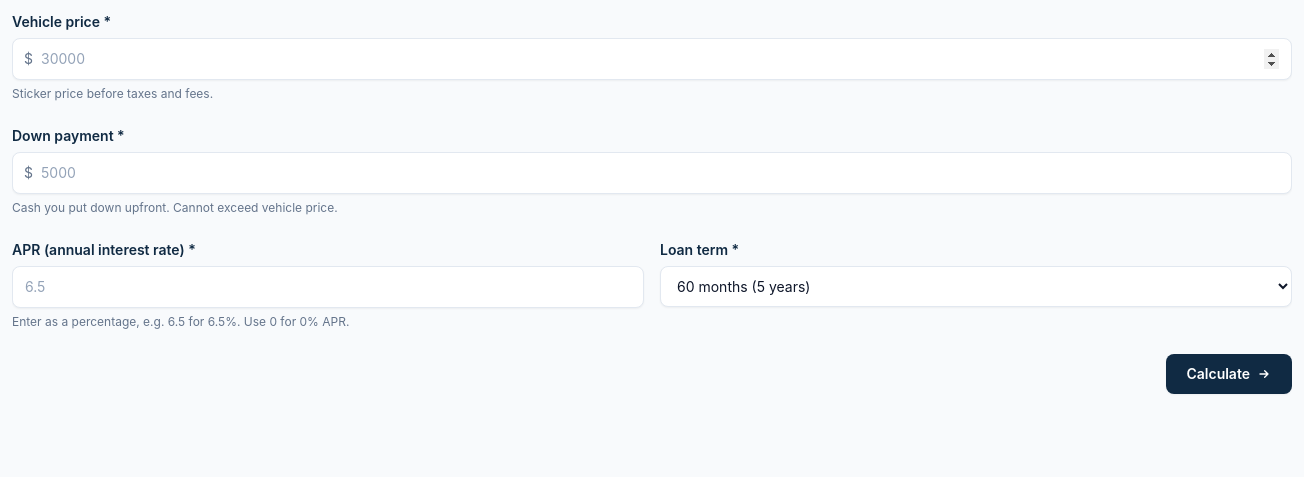
Test: FinanceCalc › shows validation errors when submitted empty
The image size is (1304, 477).
Click the button "Calculate": (1229, 374) 1166,354 -> 1292,394
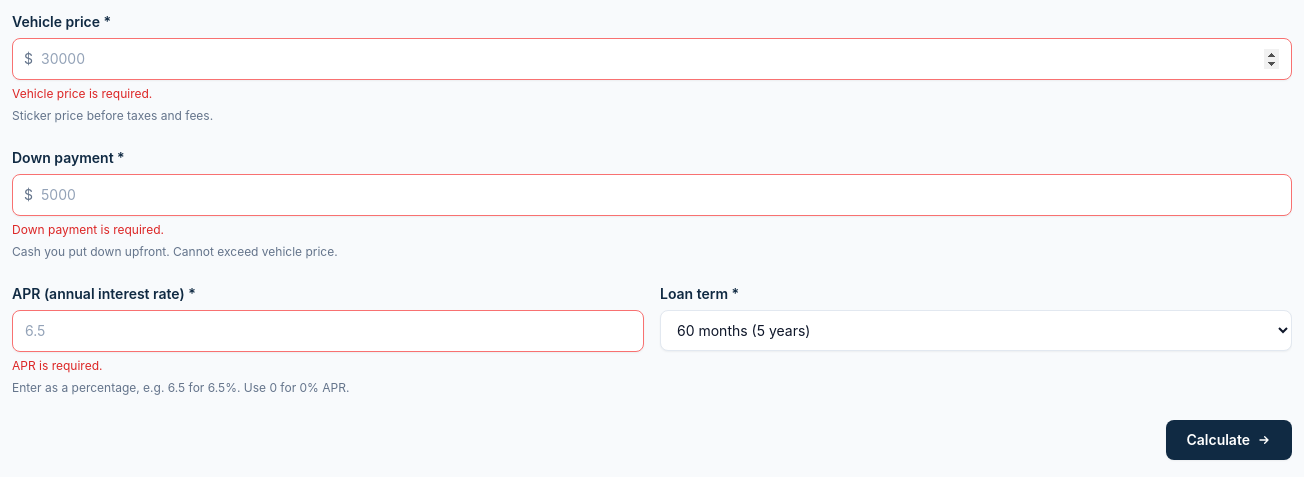
Check: the text "Vehicle price is required." is shown, box 12,86 -> 152,101
Check: the text "Down payment is required." is shown, box 12,222 -> 164,237
Check: the text "APR is required." is shown, box 12,358 -> 102,373
